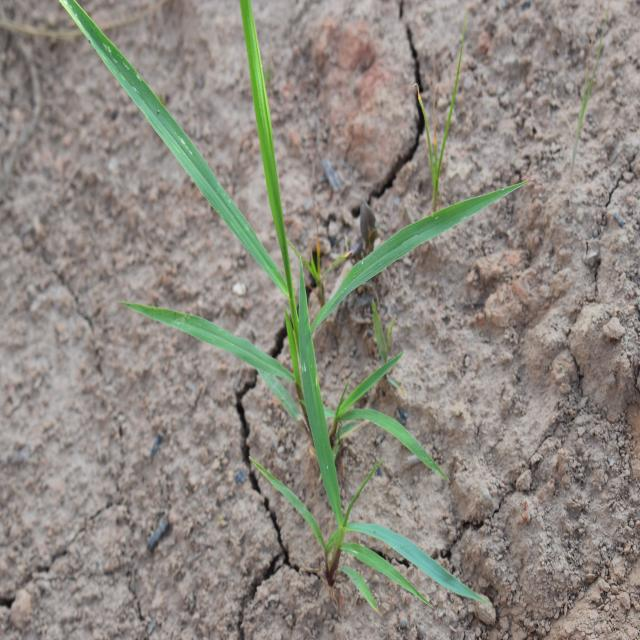green_foxtail: (118, 16, 399, 450), (288, 380, 450, 604)
